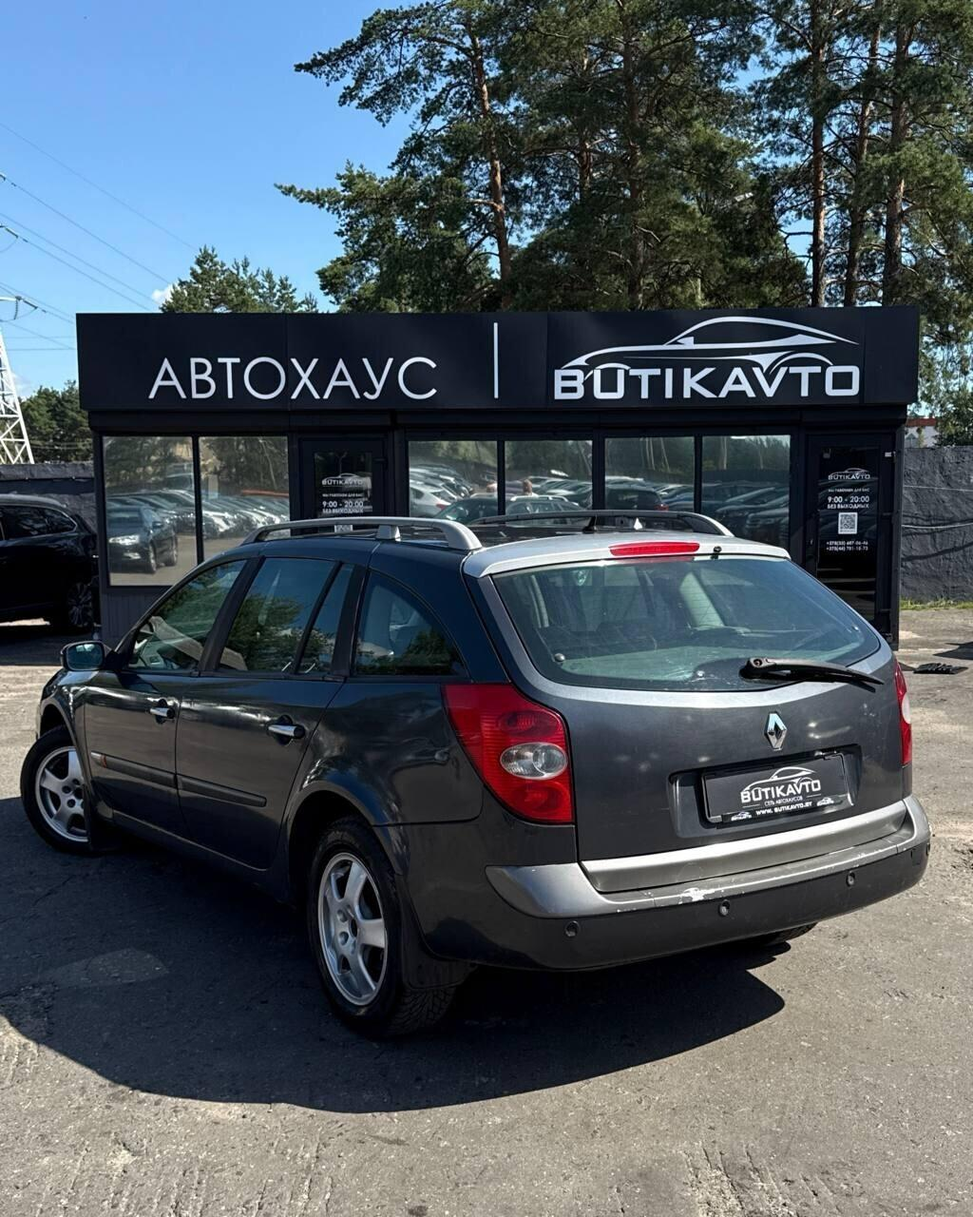Laguna_2001-2005: (23, 510, 928, 1035)
